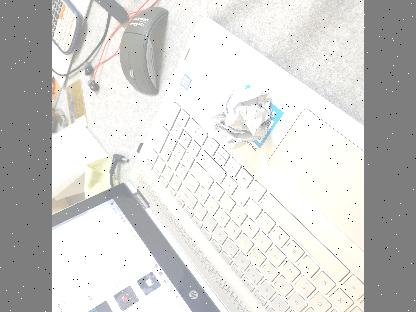Others: (205, 82, 277, 148)
